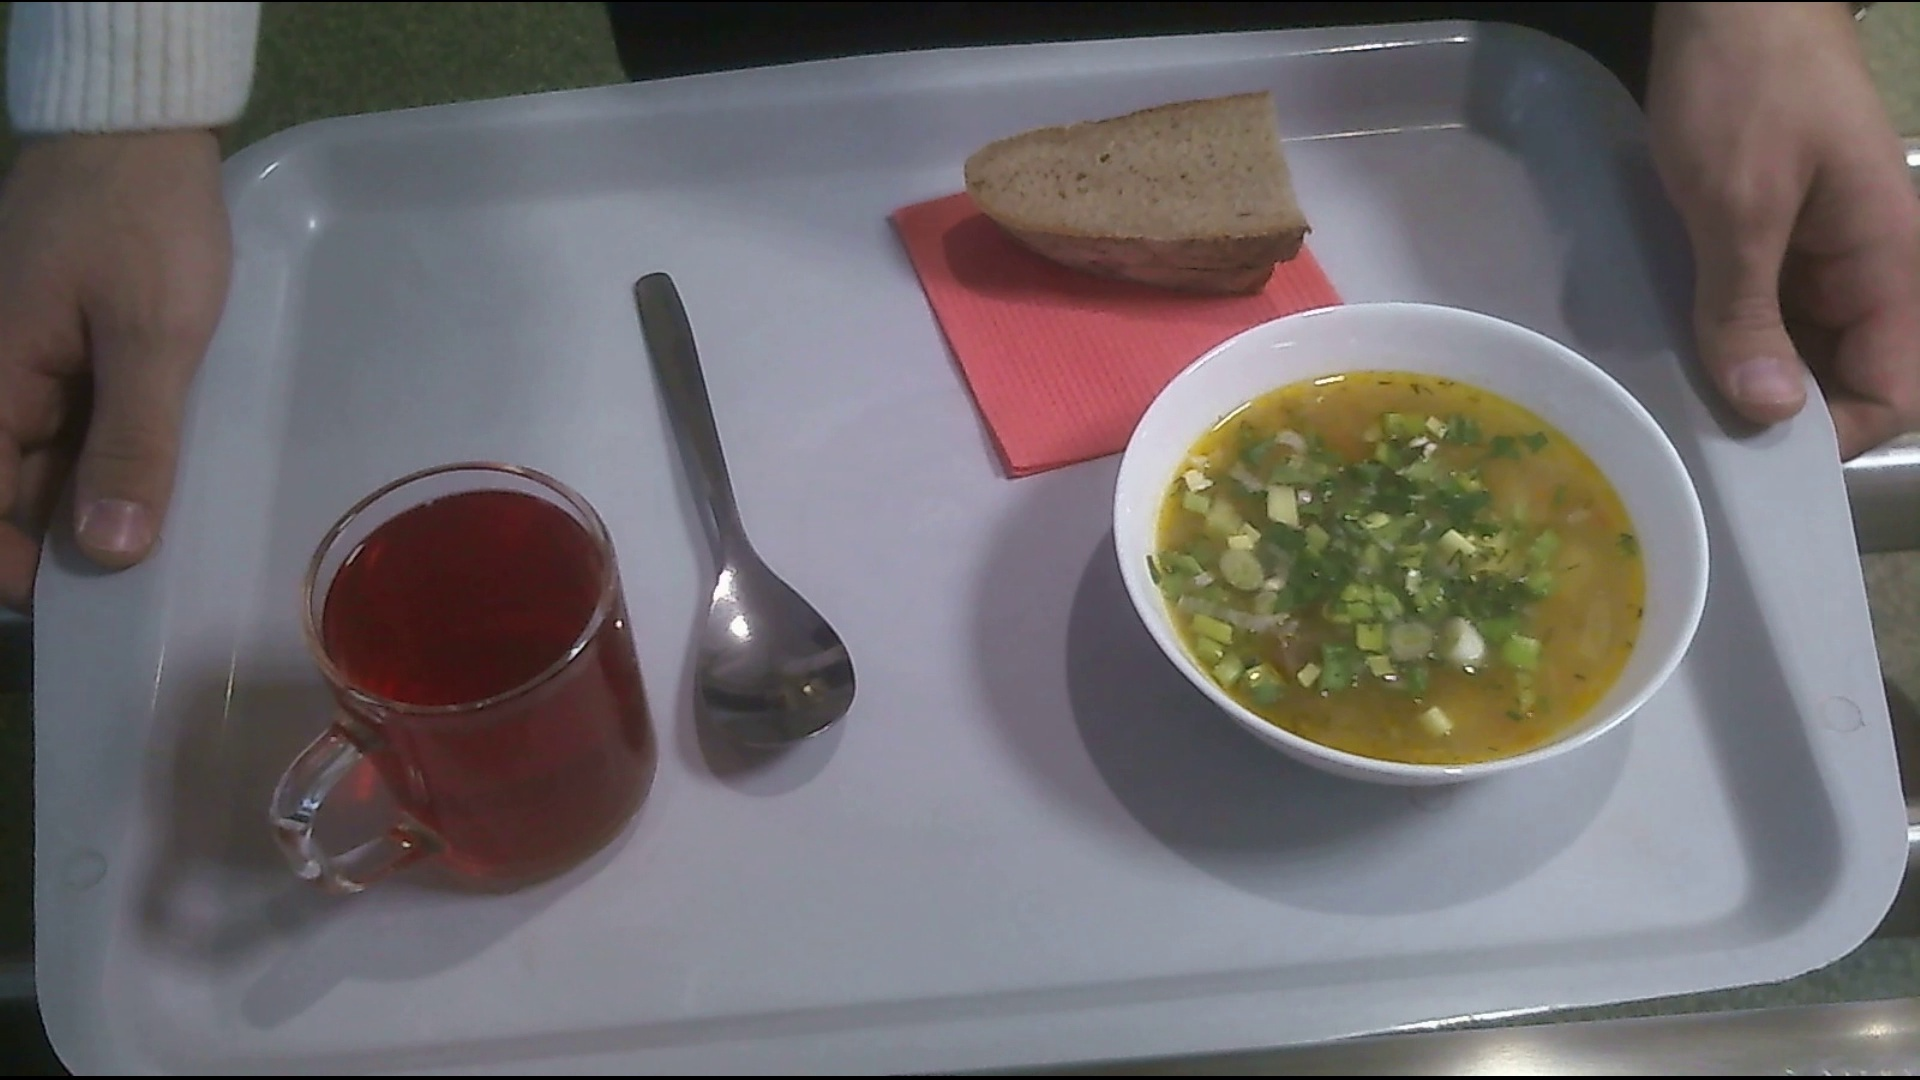bowl: (1114, 302, 1710, 790)
cutlery: (618, 255, 864, 765)
drink: (268, 462, 657, 931)
other: (949, 88, 1323, 310)
